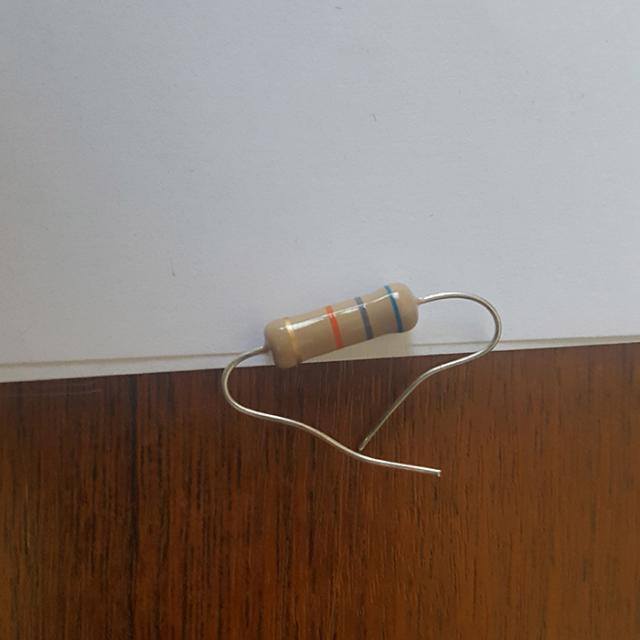blue: (386, 285, 402, 330)
gold: (287, 319, 299, 358)
grey: (357, 298, 372, 337)
orange: (328, 306, 341, 346)
resistor: (242, 267, 431, 380)
